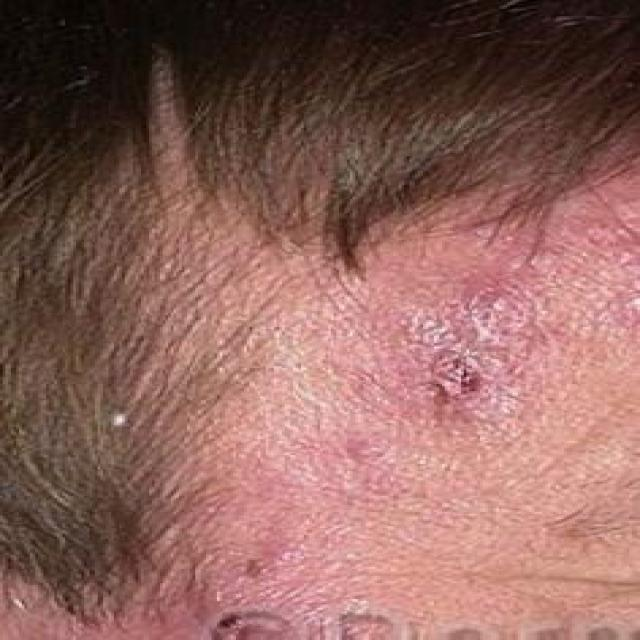Rosacea: (221, 214, 640, 587)
